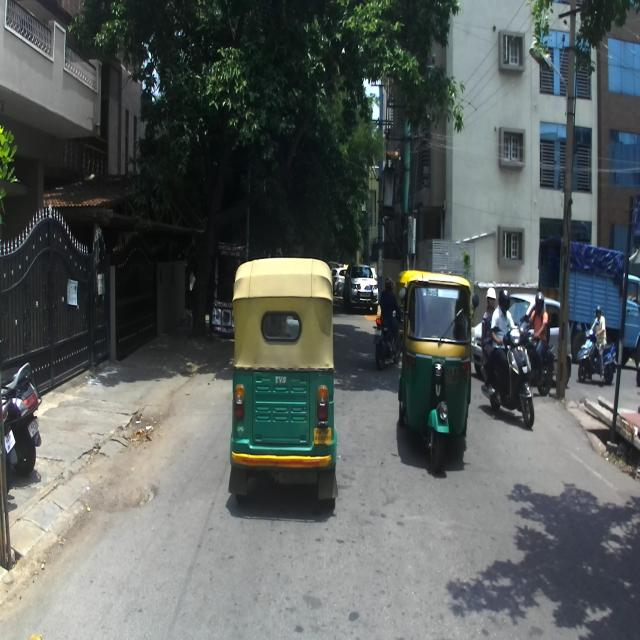auto ahead at: (232, 253, 338, 518), (399, 270, 474, 470)
electric pole ahead at: (547, 1, 585, 395)
motorcycle ahead at: (479, 325, 538, 427)
